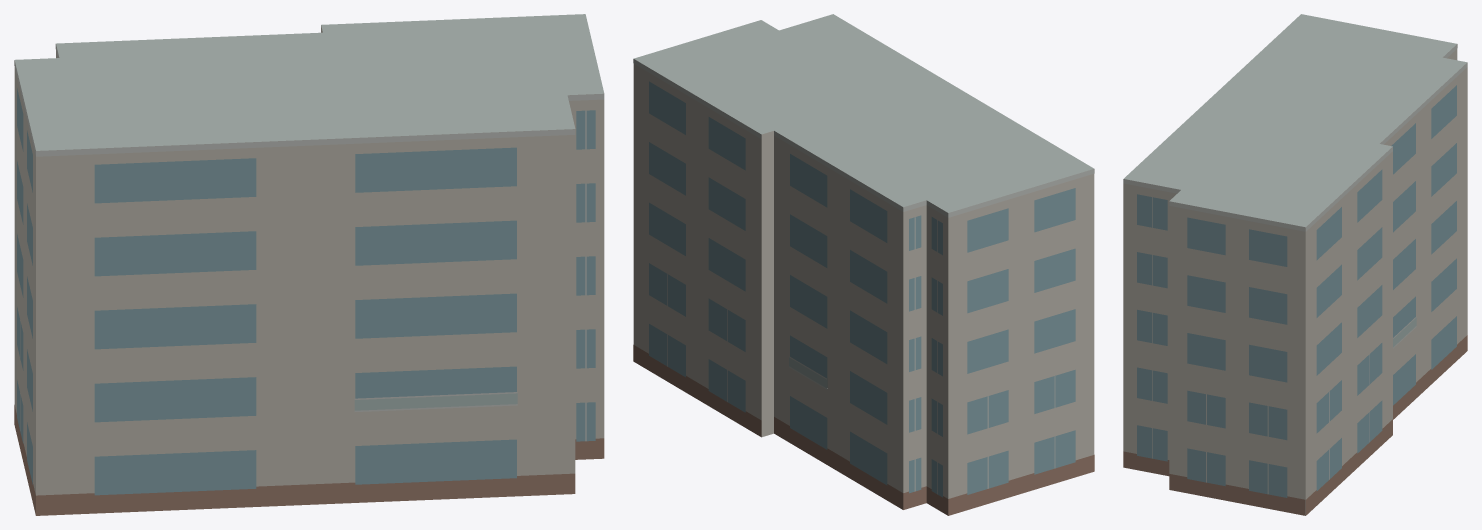
The model's file is survey-upis-32670886.glb.
3 views of the same model, side by side, from view 1: azimuth 30°, elevation 25°; view 2: azimuth 150°, elevation 25°; view 3: azimuth 270°, elevation 25° (orthographic). The views are drawn at different scales.
Parts seen in each view (by area): view 1: survey-upis-32670886.tmp; view 2: survey-upis-32670886.tmp; view 3: survey-upis-32670886.tmp.
Boxes of the visible parts, x1,y1,x2,y2 form: survey-upis-32670886.tmp: [14, 14, 604, 515]; survey-upis-32670886.tmp: [633, 14, 1094, 515]; survey-upis-32670886.tmp: [1123, 14, 1467, 515].
Size of the model in its own units: 24.33 by 15.35 by 16.59.
